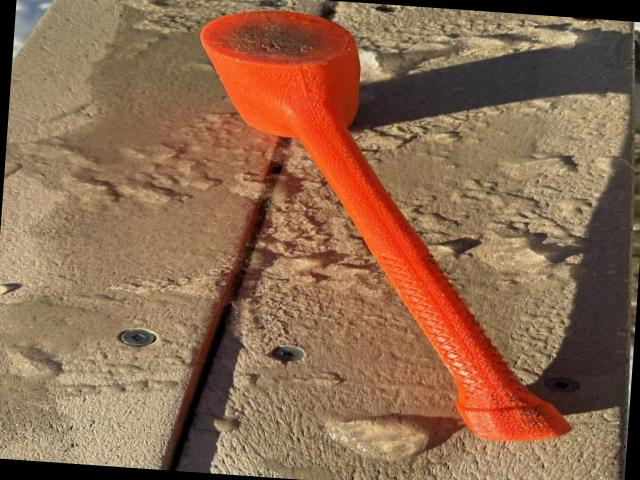hammer: (169, 0, 599, 446)
